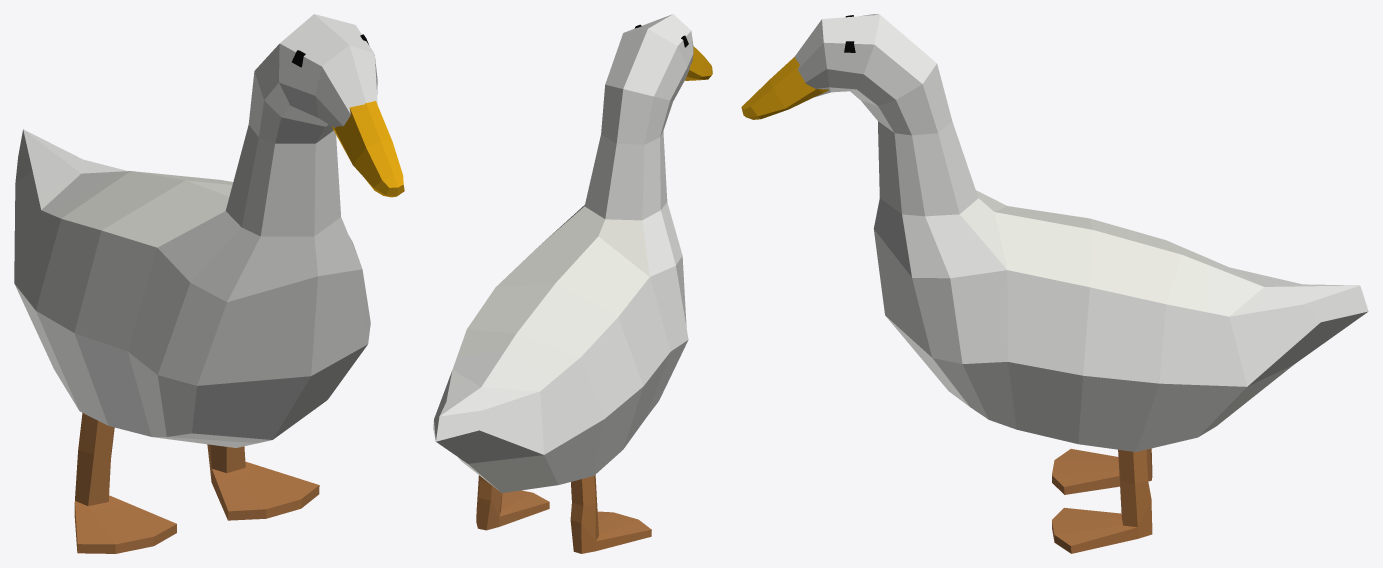
The model's file is c1fo7hQgC6J.glb.
3 views of the same model, side by side, from view 1: azimuth 30°, elevation 25°; view 2: azimuth 150°, elevation 25°; view 3: azimuth 270°, elevation 25° (orthographic). The views are drawn at different scales.
Visible parts, largest first — view 1: Geo_Duck; view 2: Geo_Duck; view 3: Geo_Duck.
Part boxes in pixels (x1=…): Geo_Duck: x1=14, y1=14, x2=404, y2=553; Geo_Duck: x1=433, y1=14, x2=712, y2=553; Geo_Duck: x1=741, y1=14, x2=1368, y2=553.
Size of the model in its own units: 0.4258 by 1 by 1.16.
1 material, 1 textured.
